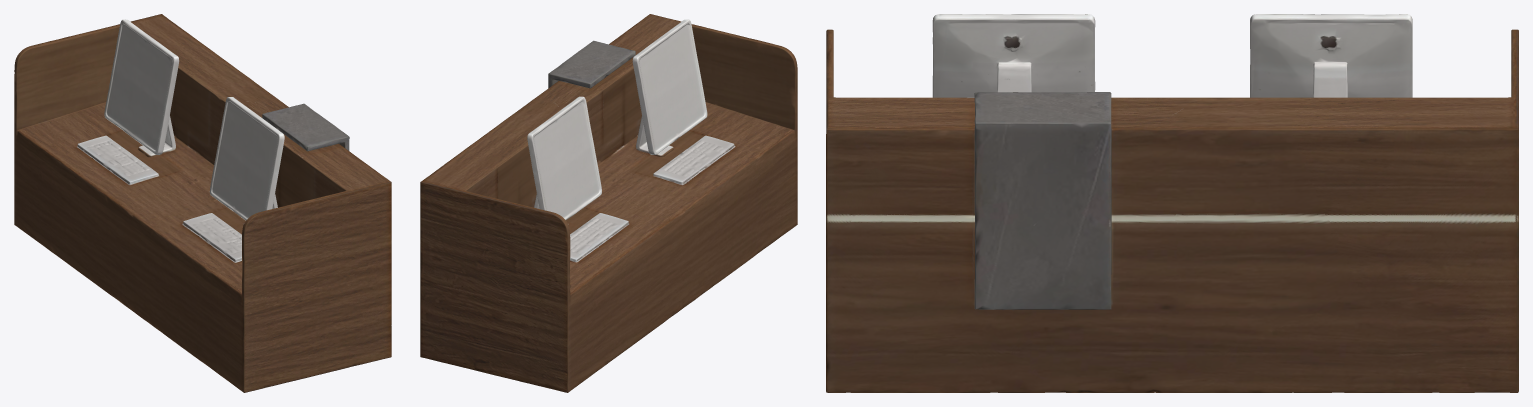
Rendered from table.glb.
The picture shows the model from 3 angles, left to right: view 1: azimuth 30°, elevation 25°; view 2: azimuth 150°, elevation 25°; view 3: azimuth 270°, elevation 25°; orthographic projection. The views are drawn at different scales.
Visible parts, largest first — view 1: tripo_node_b43be108-8516-48c0-b83d-6590d8061335; view 2: tripo_node_b43be108-8516-48c0-b83d-6590d8061335; view 3: tripo_node_b43be108-8516-48c0-b83d-6590d8061335.
Boxes of the visible parts, box(x1,y1,x2,y2) form: tripo_node_b43be108-8516-48c0-b83d-6590d8061335: box(14, 14, 391, 392); tripo_node_b43be108-8516-48c0-b83d-6590d8061335: box(420, 14, 797, 392); tripo_node_b43be108-8516-48c0-b83d-6590d8061335: box(826, 14, 1518, 392).
Size of the model in its own units: 0.3904 by 0.5154 by 1.
Materials: 1 (1 with a texture image).
